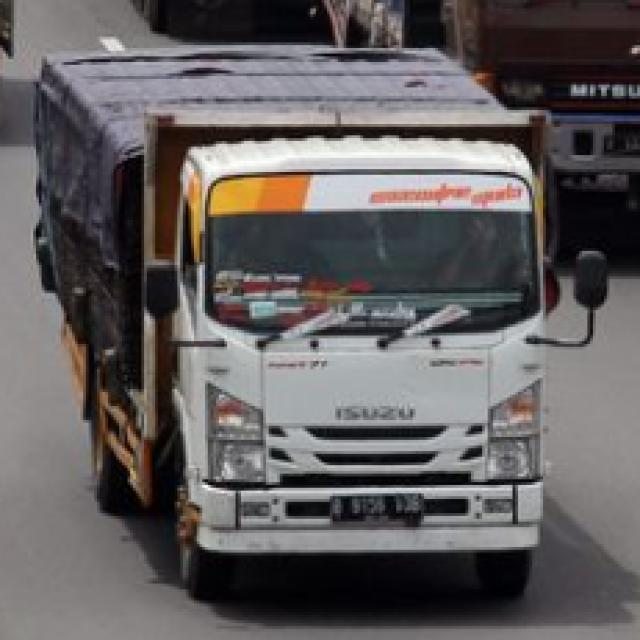truck: (47, 0, 632, 596)
